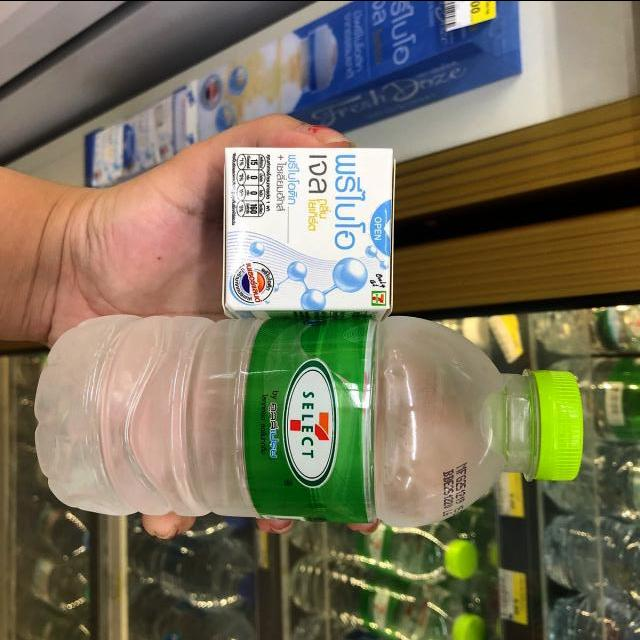cap: (524, 362, 582, 486)
label: (242, 309, 378, 524)
not-crumbled: (33, 310, 591, 530)
